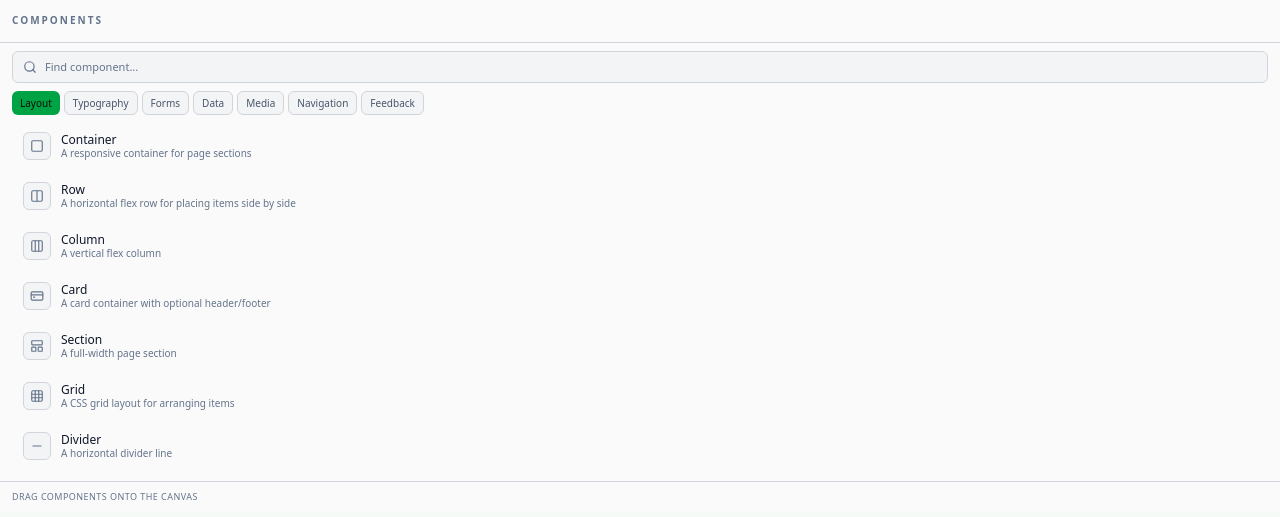
ComponentPalette › shows typography components when typography tab is clicked
Click the button "Typography".
click(101, 103)  # box [64,91,138,115]
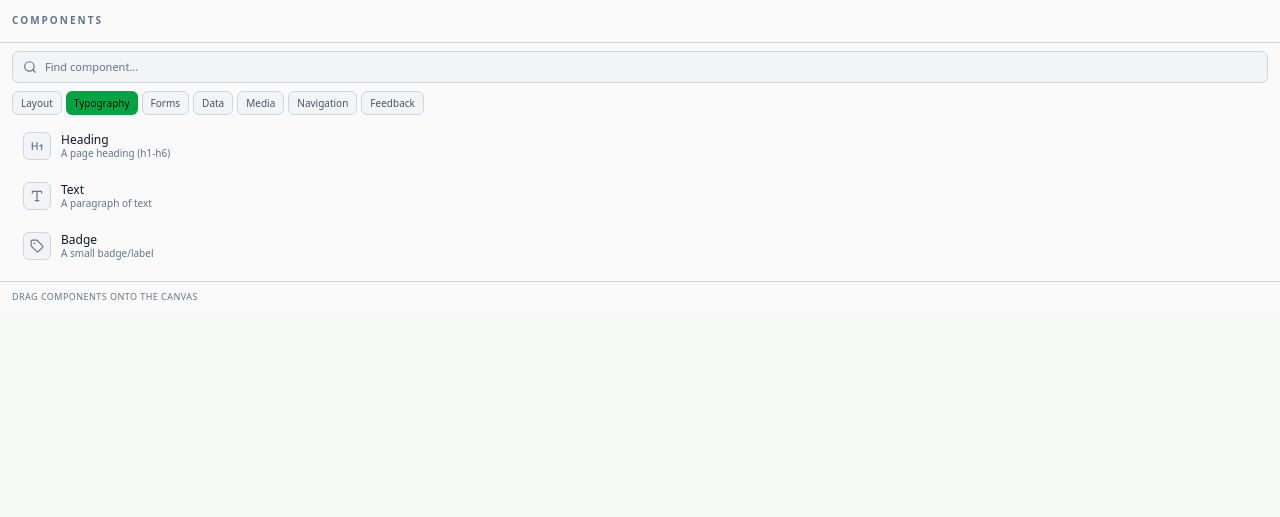
Result: the text "Heading" is shown at [61,131,109,148]
Result: the text "Text" is shown at [61,181,84,198]
Result: the text "Badge" is shown at [61,231,97,248]
